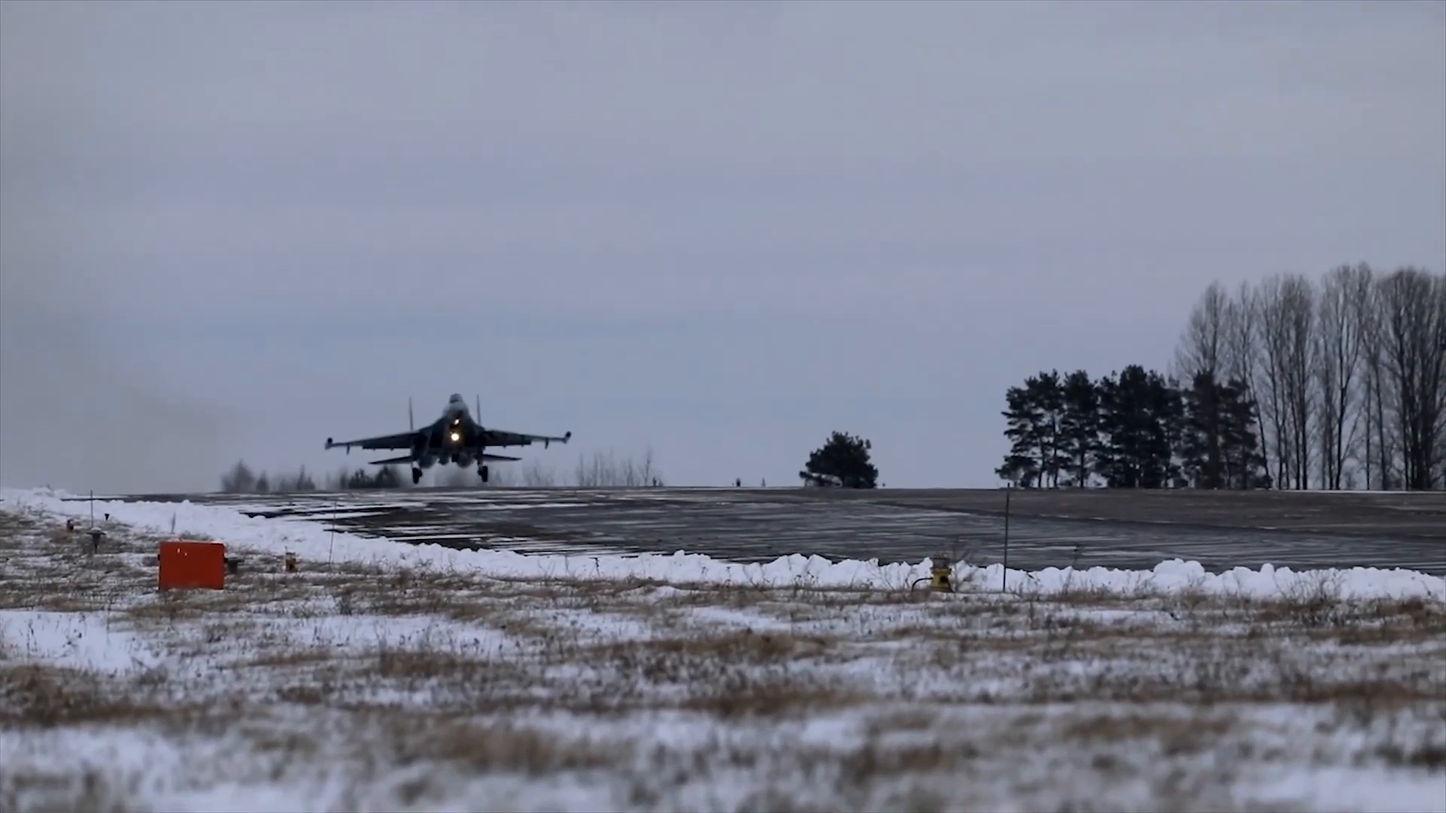Su35: (326, 389, 571, 481)
